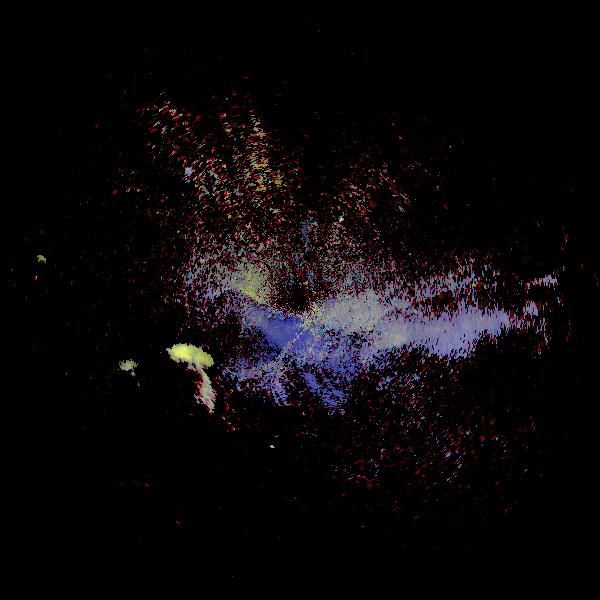roost: (129, 327, 234, 432), (80, 347, 146, 413), (15, 244, 48, 277)
